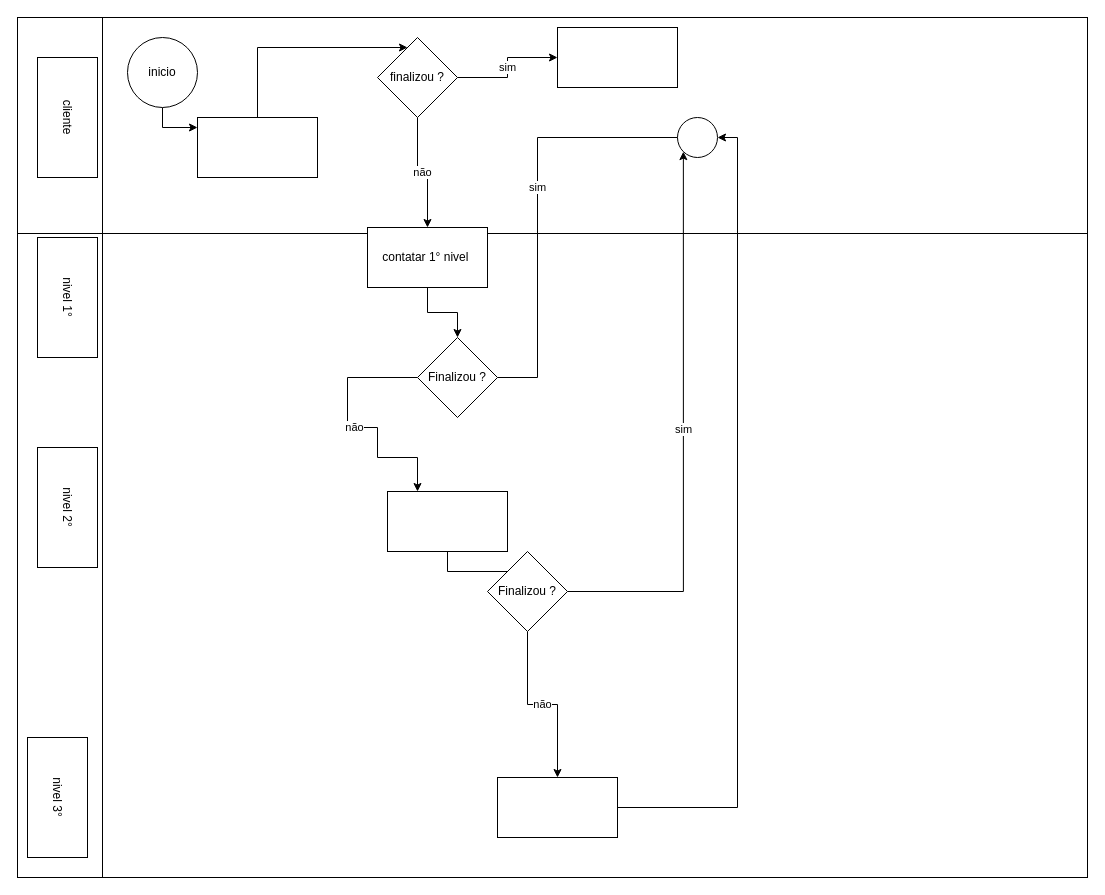
The diagram is 1105 pixels wide and 895 high, and some of its shapes have lost their labels. The shapes that lost their labels are listed below. From the top down, each one's centre as x and y in pixels, then its label:
[617,57]: ir para a pagina de login
[257,147]: usuario entrou na pagina de cadastro
[697,137]: fim
[447,521]: contatar o 2° nivel
[557,807]: contatar o 3° nivel
